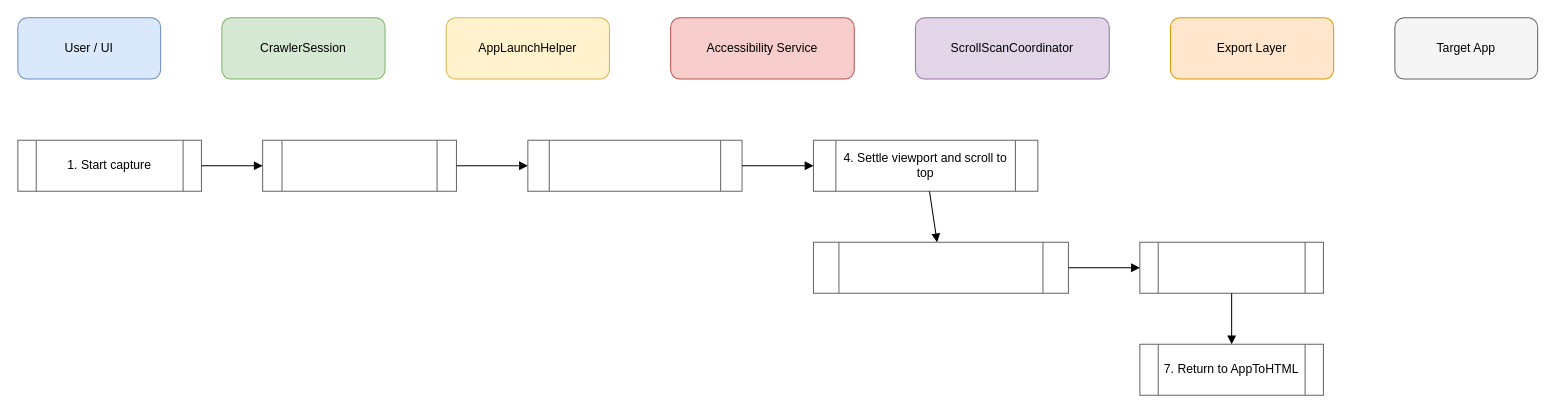
Some shapes in this 1556 by 413 pixel diagram are drawn without their labels. Each missing label, with the centre of its shape:
"2. Launch selected app" belongs at [359,165].
"3. Accessibility events arrive" belongs at [634,165].
"5. Crawl downward while viewport changes" belongs at [940,267].
"6. Render HTML + XML" belongs at [1231,267].
